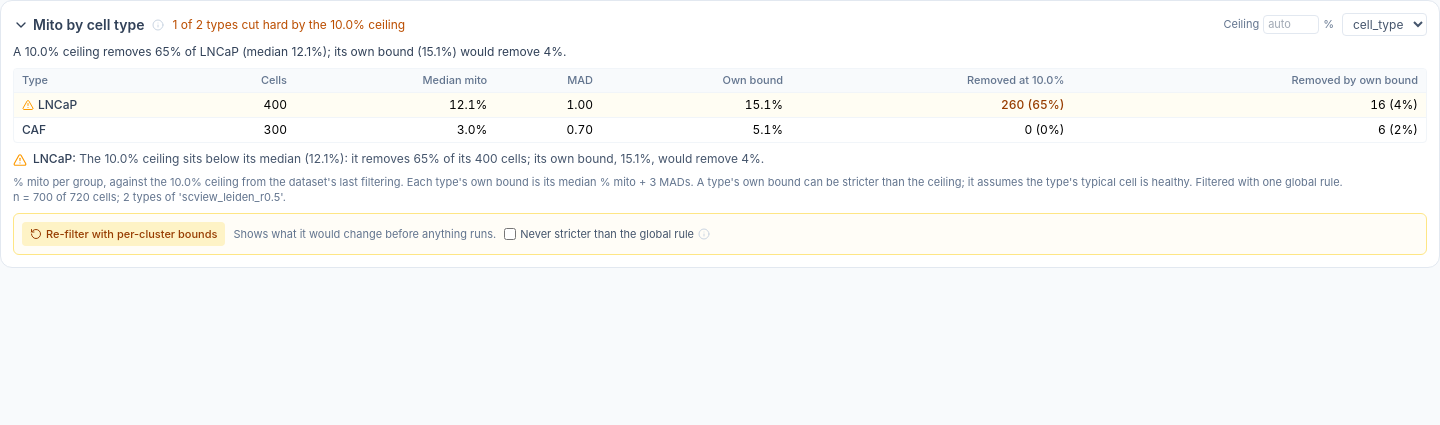
Test case: MitoByType › keeps saying what the re-filter did after the card stops offering it
Step 1. Click the button "Re-filter with per-cluster bounds" → (124, 234), box x1=22 y1=222 x2=226 y2=246
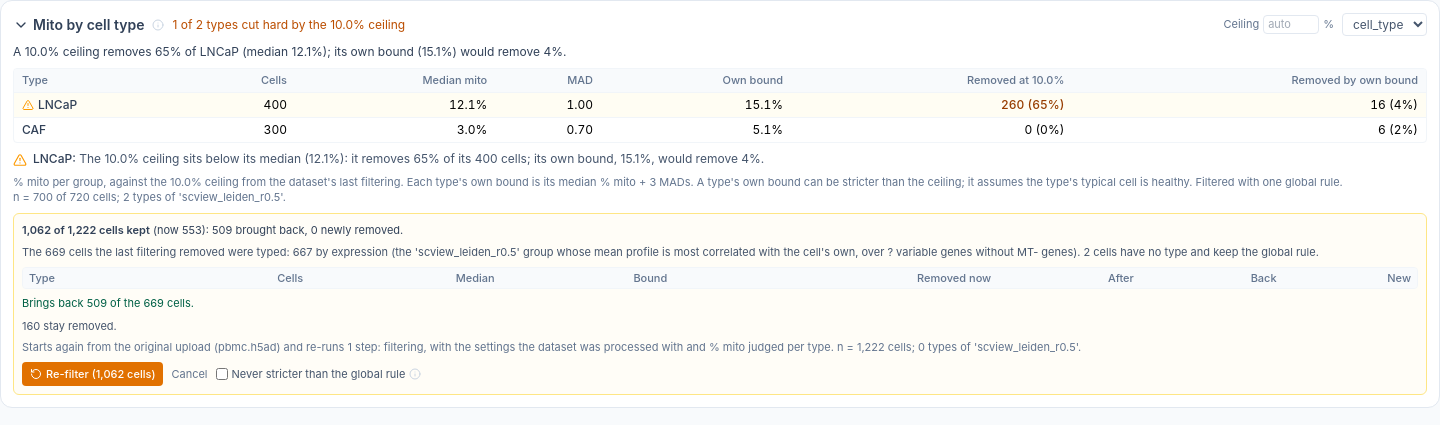
Step 2. Click the button "Re-filter (1,062 cells)" → (93, 374), box x1=22 y1=362 x2=164 y2=386
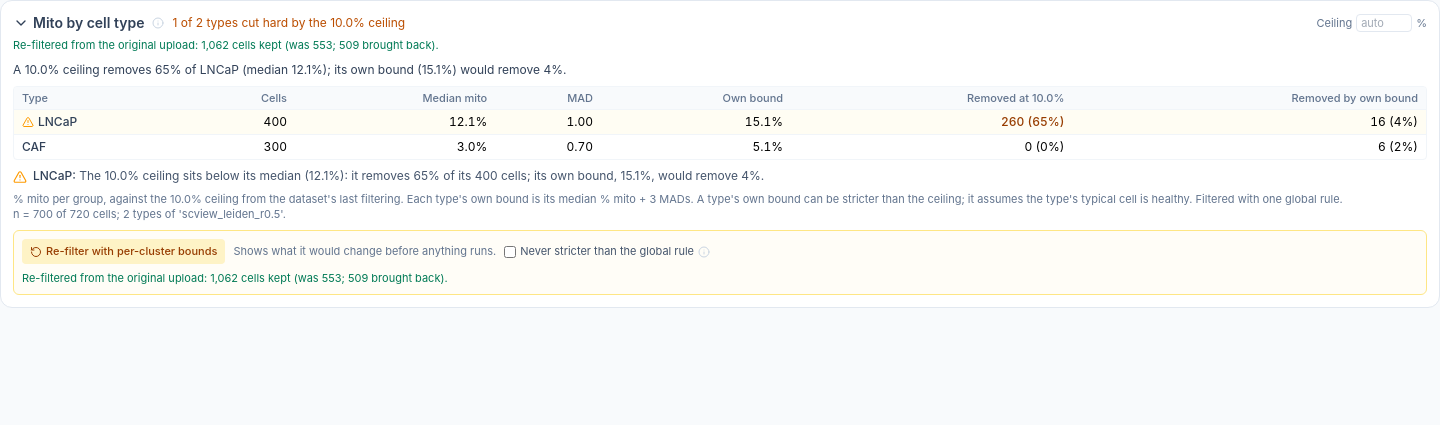
Result: the text with test id "mito-refiltered" shows "Re-filtered from the original upload: 1,062 cells kept (was 553; 509 brought back)." at x1=13 y1=38 x2=439 y2=52
